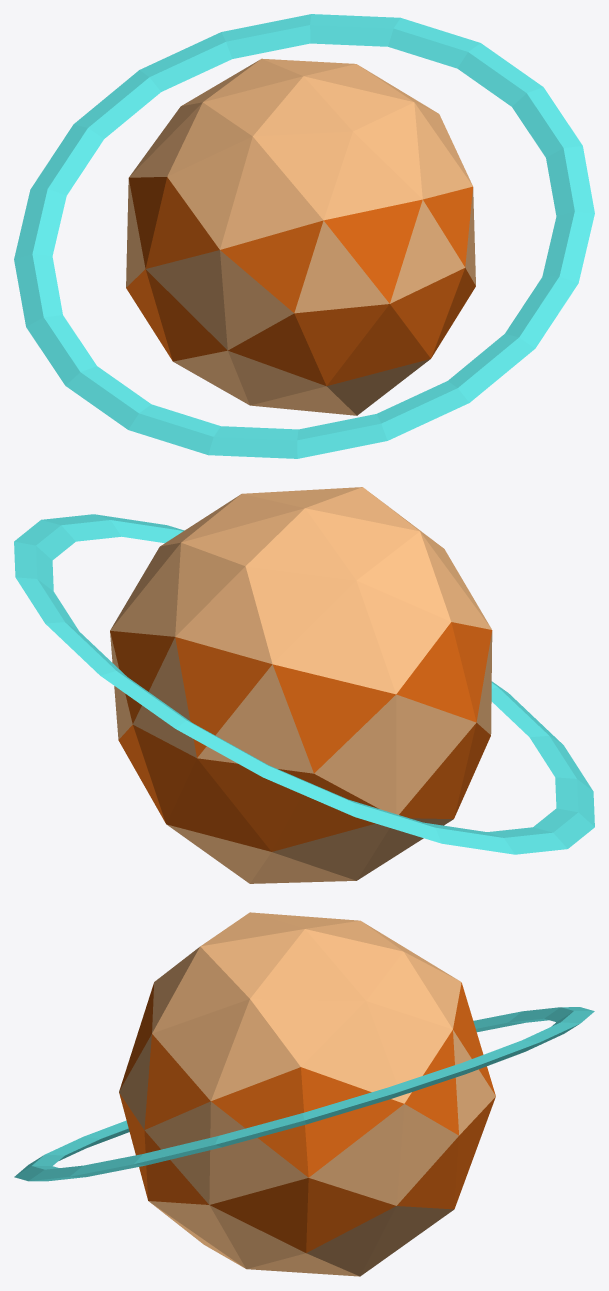
Rendered from giant.glb.
3 renders of one model, top to bottom at view 1: azimuth 30°, elevation 25°; view 2: azimuth 150°, elevation 25°; view 3: azimuth 270°, elevation 25°, orthographic. The views are drawn at different scales.
Visible parts, largest first — view 1: Giant, Ring; view 2: Giant, Ring; view 3: Giant, Ring.
Boxes of the visible parts, x1,y1,x2,y2 form: Giant: (126, 58, 475, 415); Ring: (14, 14, 594, 458); Giant: (110, 487, 492, 883); Ring: (14, 514, 594, 854); Giant: (119, 912, 495, 1276); Ring: (14, 1007, 594, 1181).
Bounding box in the file's own units: 4.53 × 2.94 × 4.63.
